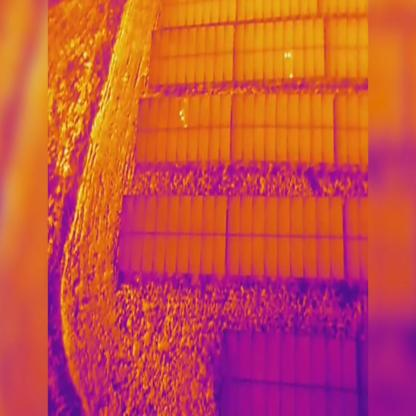hotspot: (284, 50, 288, 61), (287, 50, 291, 59), (178, 108, 182, 115), (180, 117, 184, 123), (184, 122, 187, 130), (289, 74, 293, 79)
